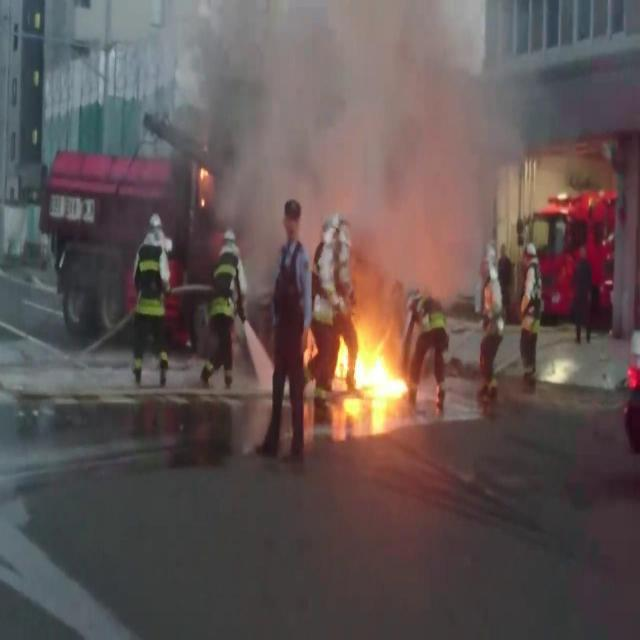Fire: (338, 329, 404, 413), (201, 166, 211, 180)
